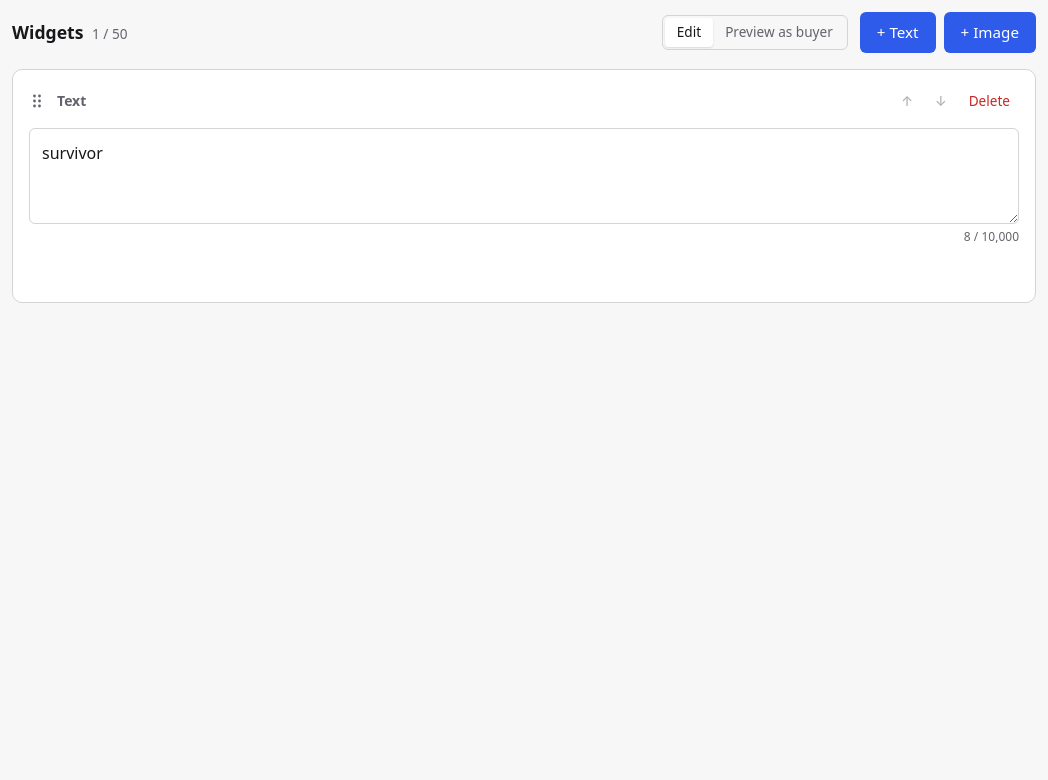
WidgetBoard › deleting › restores a widget when the delete request fails
Click the button with aria-label "Delete widget" at coordinates (989, 101), box x1=960 y1=86 x2=1019 y2=116
Wait 5100 ms
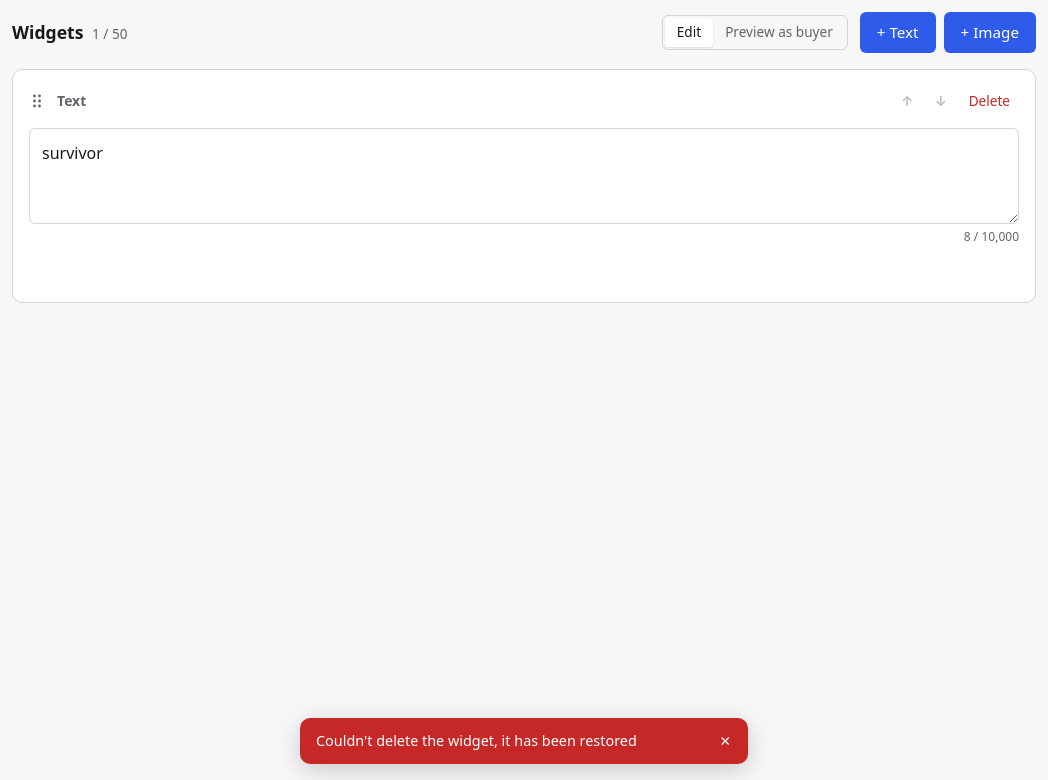
Expected: the text box named "Widget text" holds "survivor", x1=29 y1=128 x2=1019 y2=224
Result: the text "Couldn't delete the widget, it has been restored" is shown at x1=316 y1=731 x2=637 y2=750
